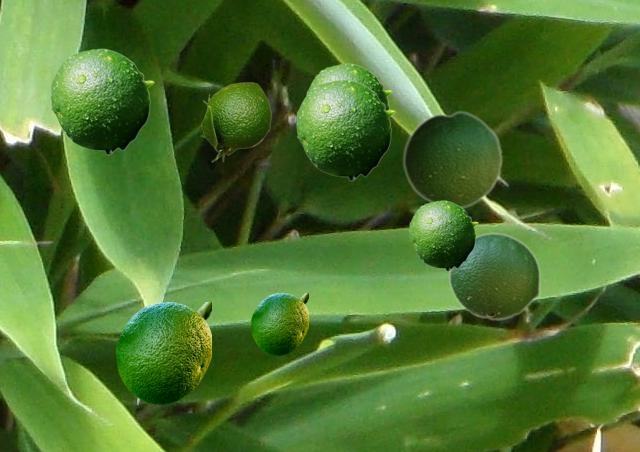dalandan: (50, 48, 153, 154), (402, 110, 502, 210), (296, 79, 394, 180), (116, 302, 210, 403), (448, 232, 540, 320), (200, 82, 270, 161), (409, 200, 477, 270), (306, 63, 391, 109), (251, 293, 307, 354)
